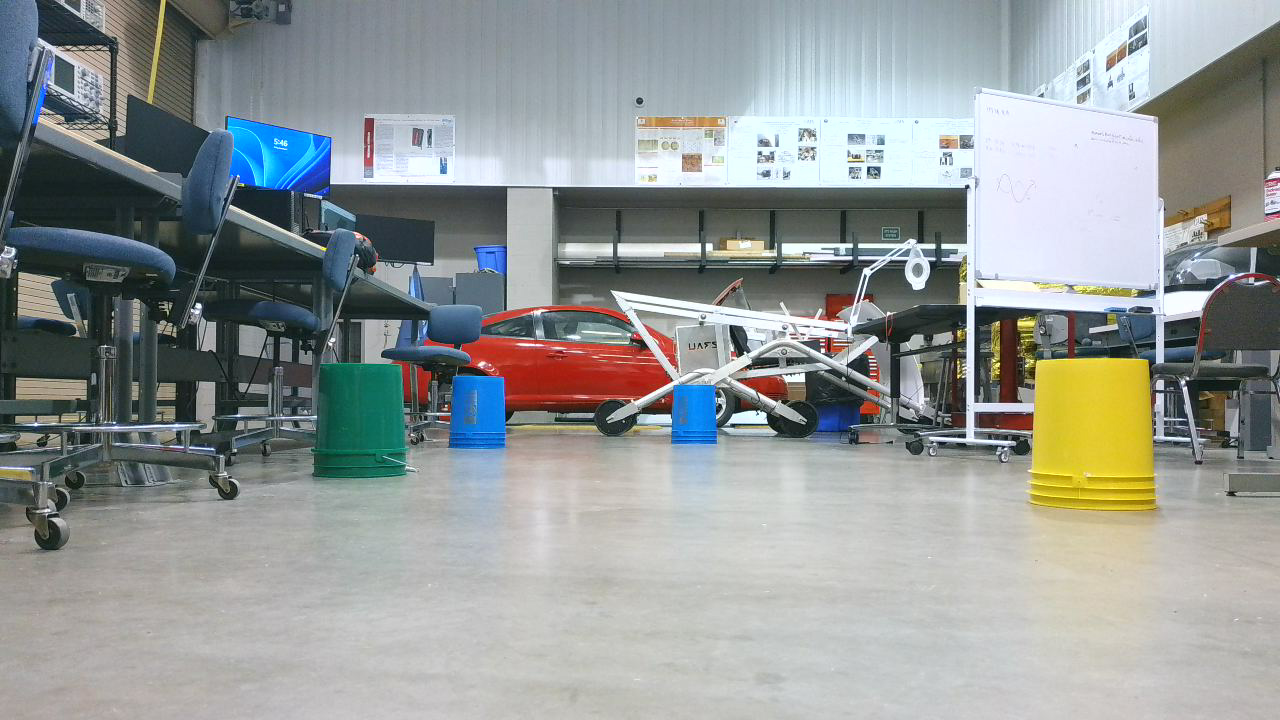blue_bucket: (450, 378, 518, 457), (673, 387, 727, 452)
green_bucket_barrier: (313, 364, 421, 487)
yellow_bucket: (1028, 357, 1176, 520)
